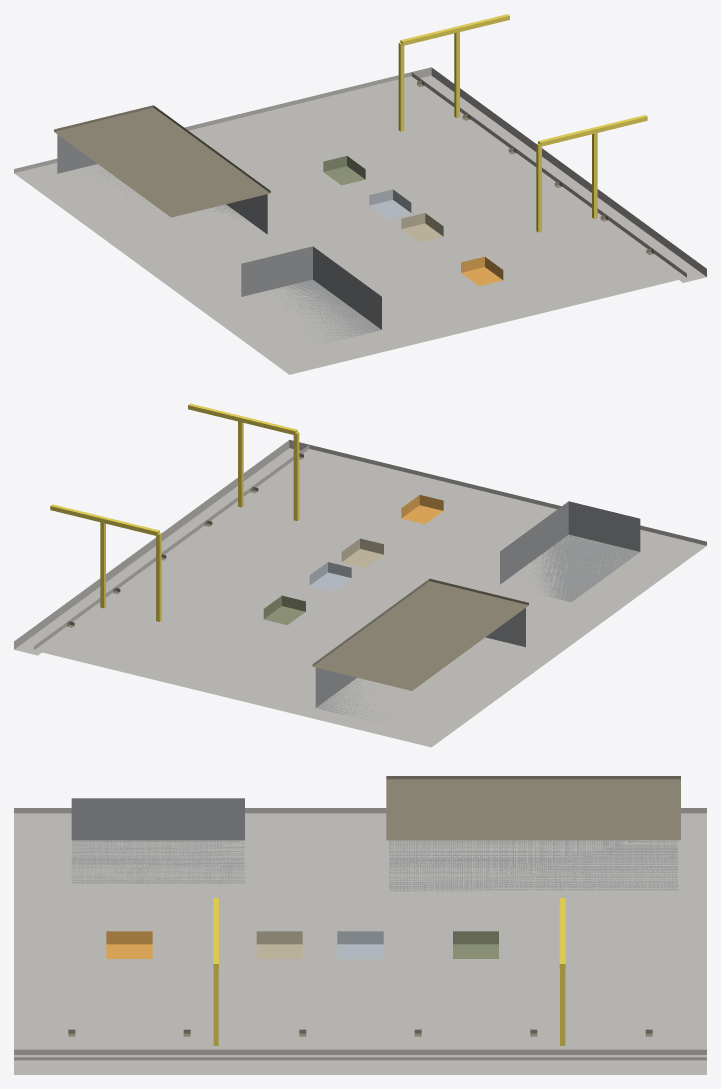
File: port.glb
3 renders of one model, top to bottom at view 1: azimuth 30°, elevation 25°; view 2: azimuth 150°, elevation 25°; view 3: azimuth 270°, elevation 25°, orthographic. The views are drawn at different scales.
Visible parts, largest first — view 1: port; view 2: port; view 3: port.
Part boxes in pixels (x1,y1,x2,y2): port: [14, 14, 706, 374]; port: [14, 403, 706, 747]; port: [14, 776, 706, 1074].
Size of the model in its own units: 110 by 23.5 by 120.
